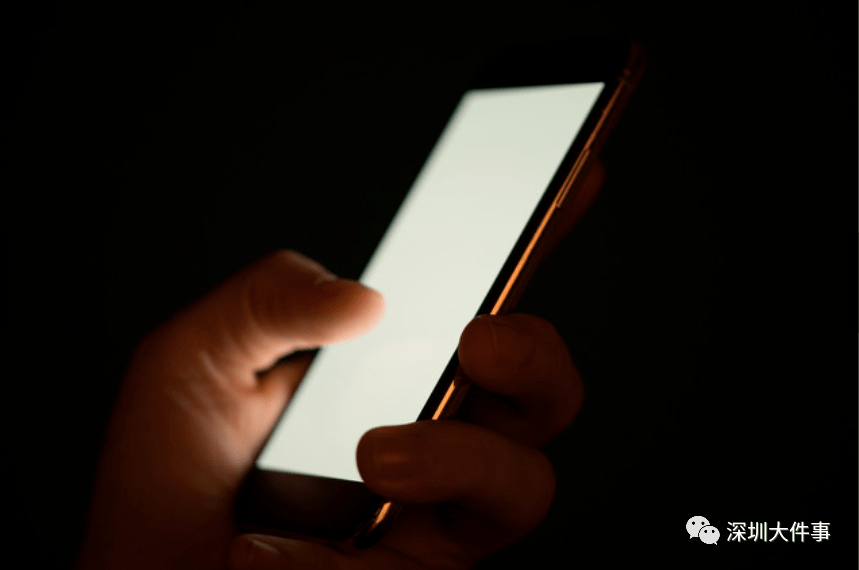reading: (79, 29, 632, 563)
